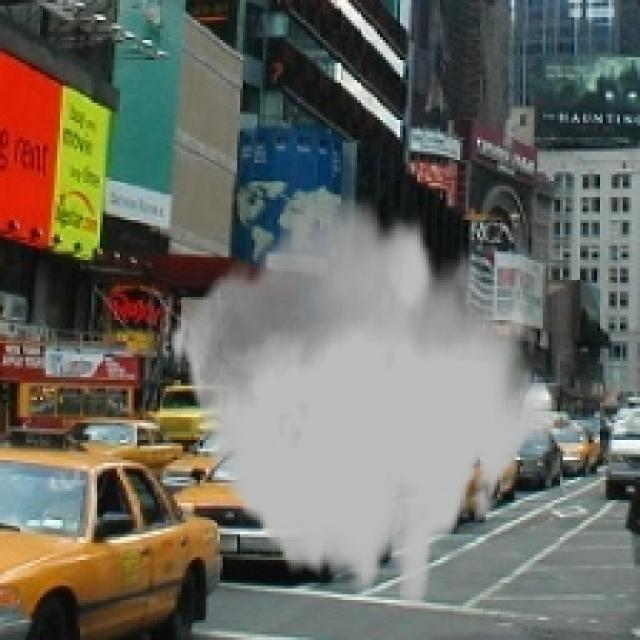smoke: (169, 194, 554, 609)
